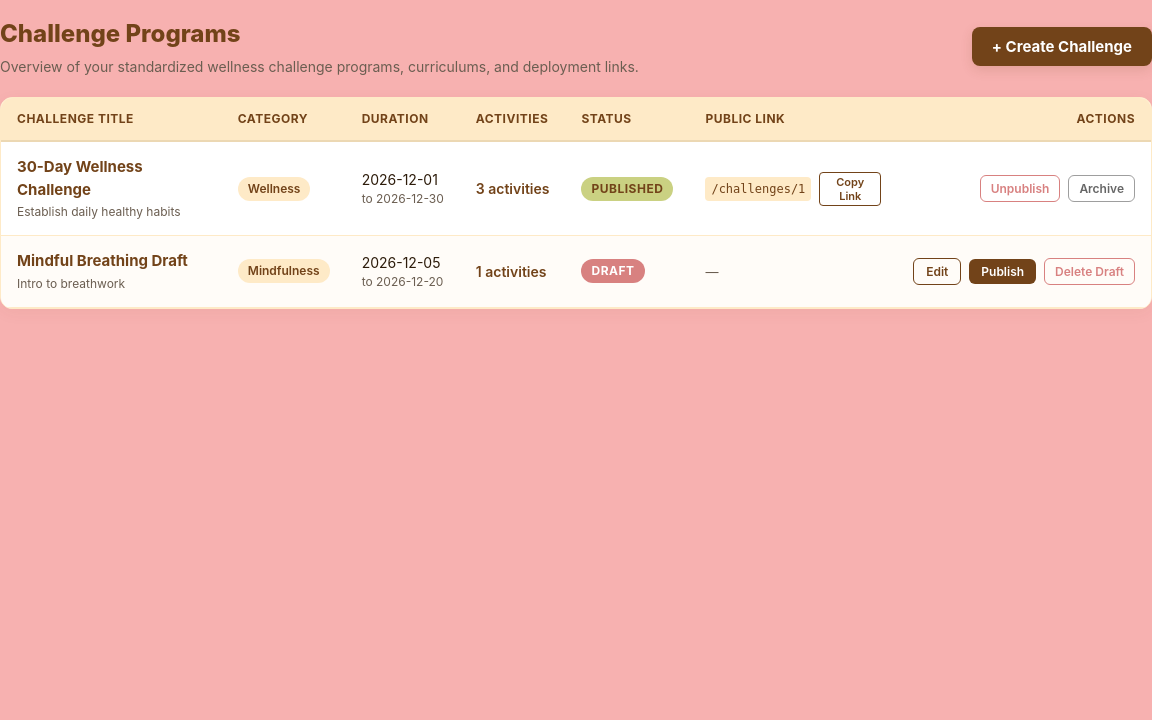
Program Builder Component (UI-07) › prompts confirmation before publishing when clicking Save and Publish in modal
Later steps or results of the test are not shown.
Expected: the heading "Challenge Programs" is shown, [0,19,240,48]
Click the button "+ Create Challenge" at (1062, 46), box [972,27,1151,66]
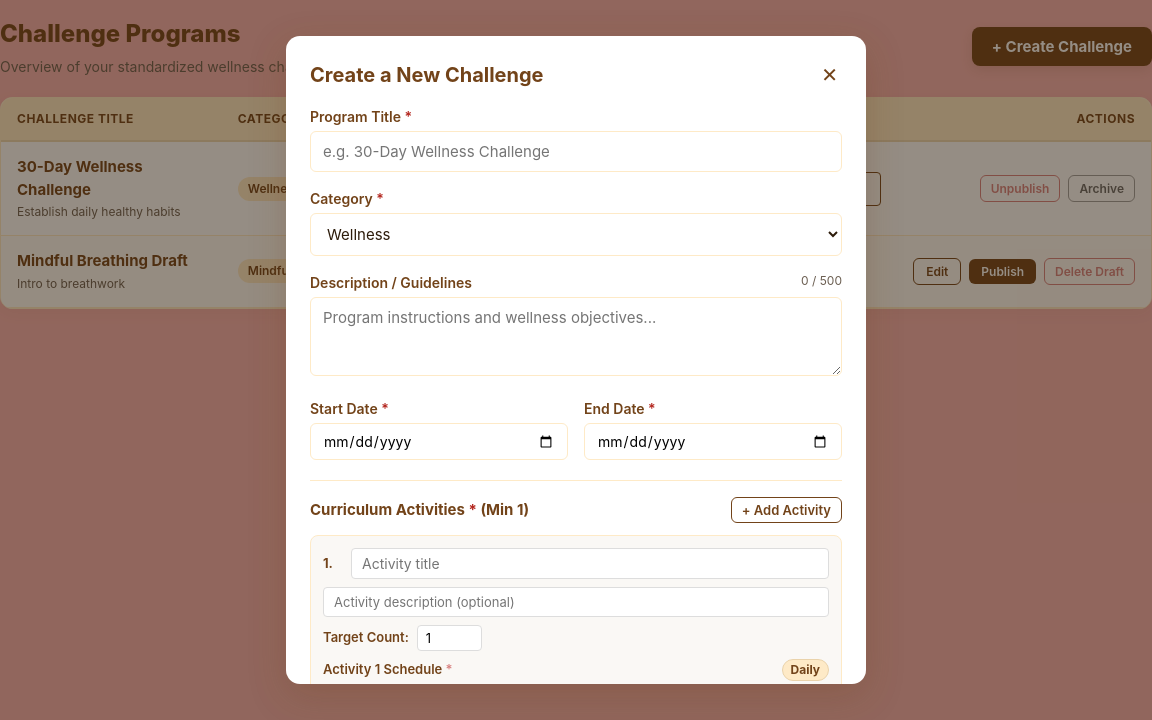
Type "Instant Published Challenge" into the field labelled "Program Title *" at (576, 152), box [310,131,842,172]
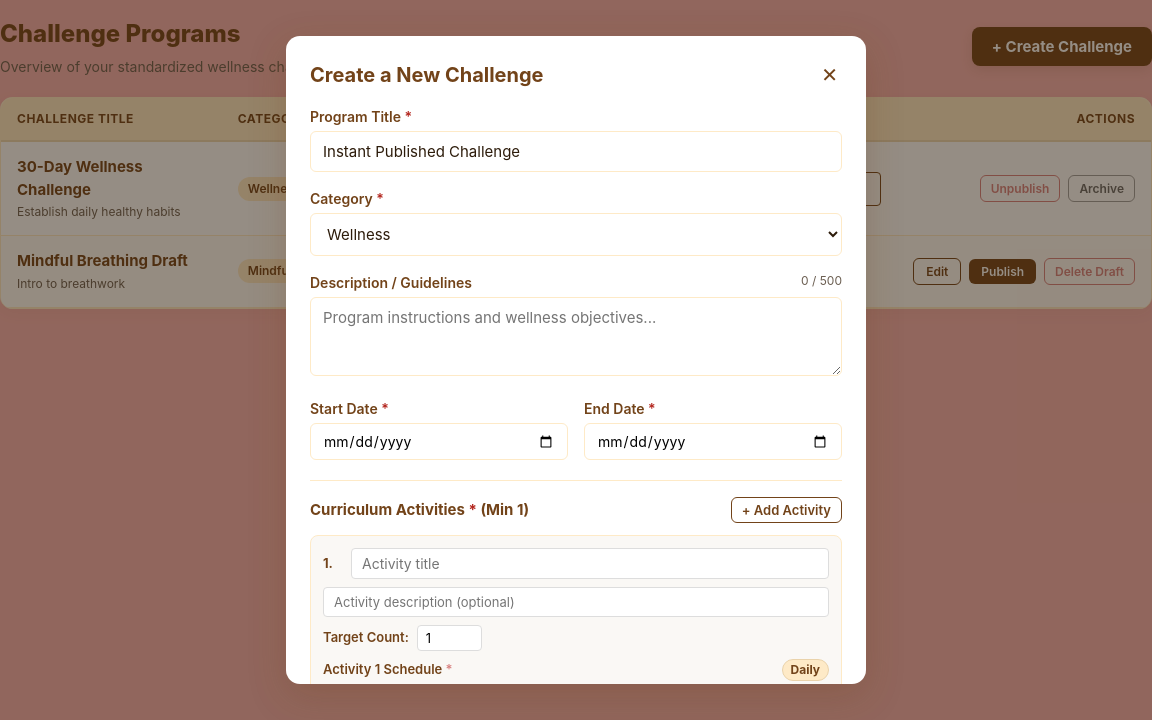
Type "2026-12-01" into the date field labelled "Start Date *" at (439, 442), box [310,423,568,460]
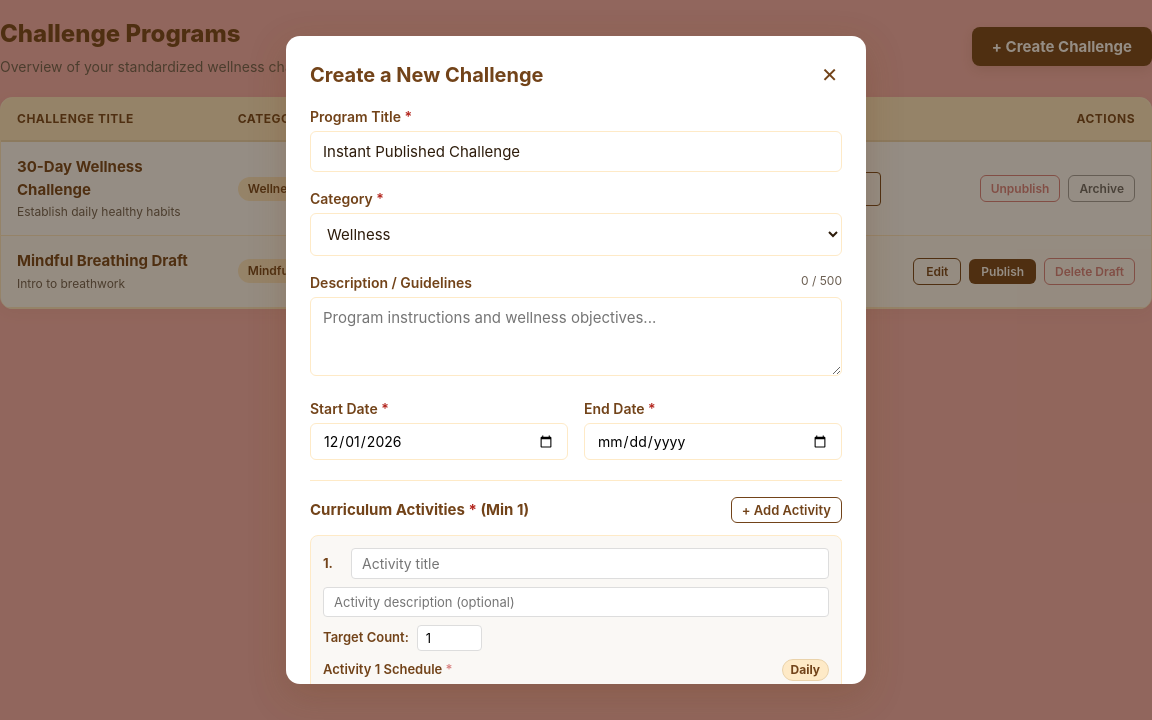
Type "2026-12-30" into the date field labelled "End Date *" at (713, 442), box [584,423,842,460]
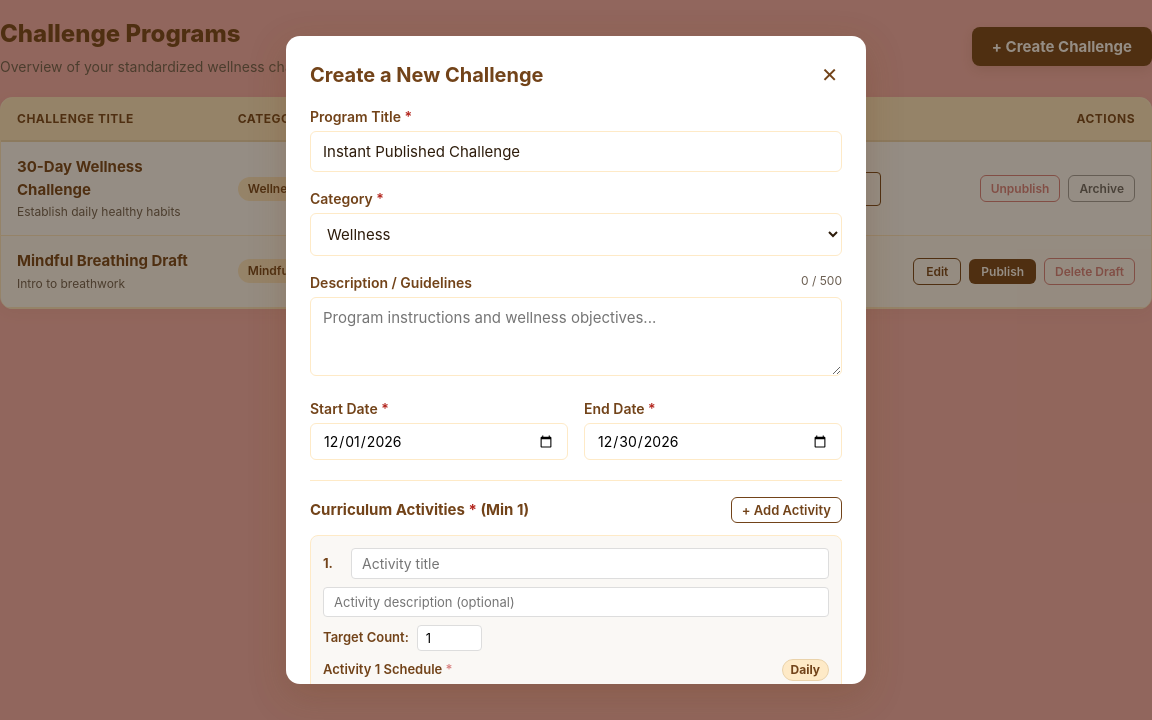
Type "Meditation" into the field named "Activity 1 Title" at (590, 564), box [351,548,829,579]
(page scrolled)
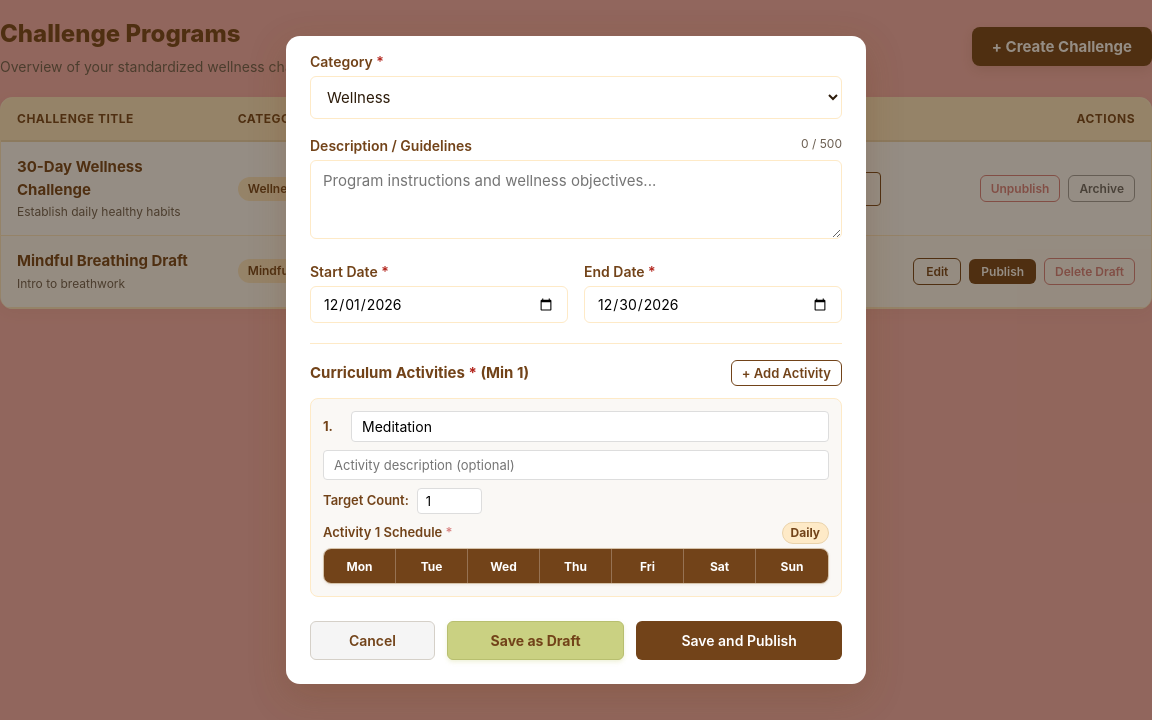
Click Save and Publish
Click the button "Save and Publish" at (739, 640), box [636,621,842,660]
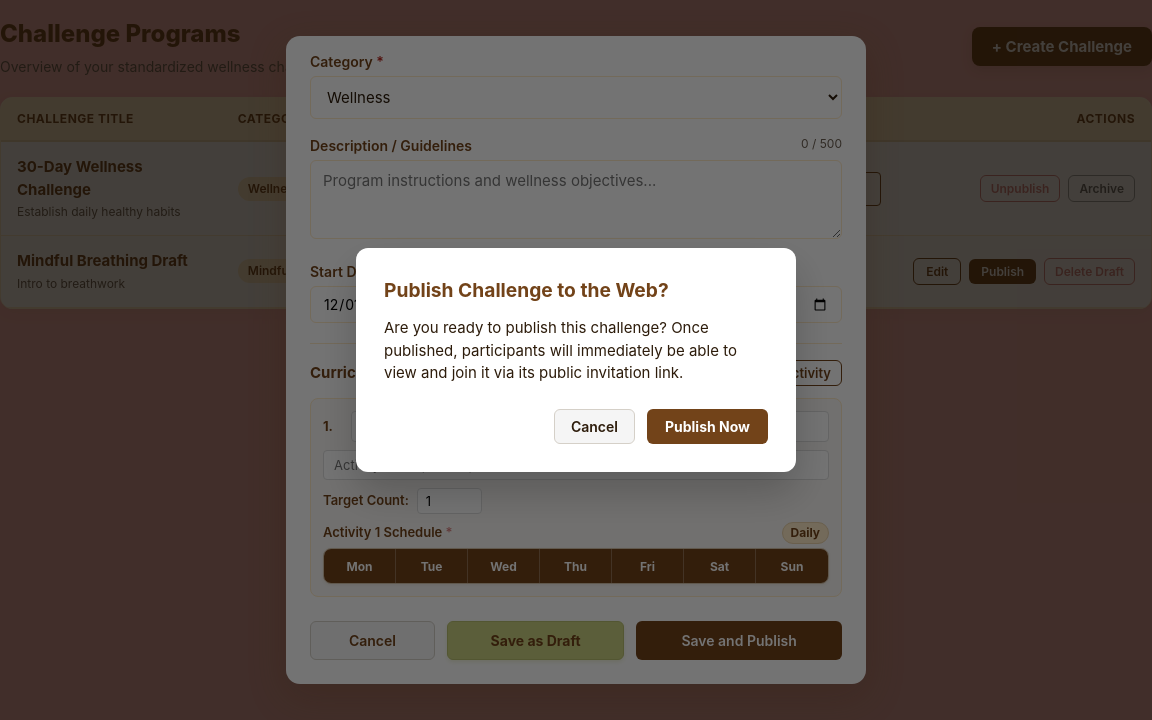
Now the heading "Publish Challenge to the Web?" is shown, box [384,278,669,302]
